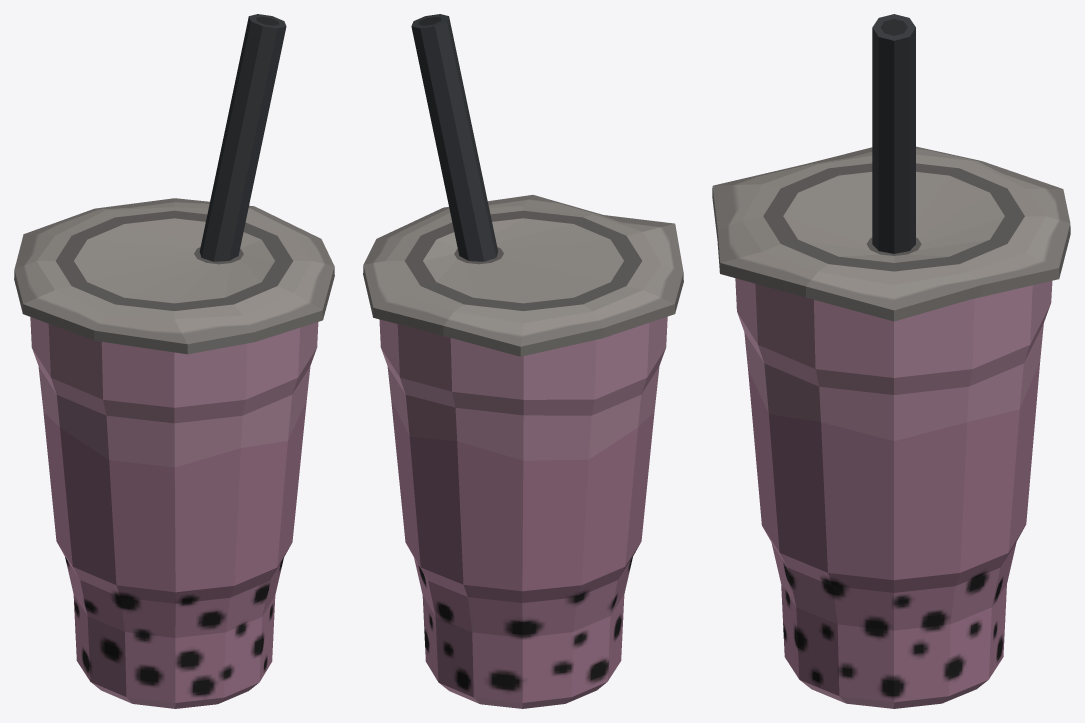
The model's file is SM_Prop_Drink_Boba_01.fbx.
The picture shows the model from 3 angles, left to right: view 1: azimuth 30°, elevation 25°; view 2: azimuth 150°, elevation 25°; view 3: azimuth 270°, elevation 25°; orthographic projection. The views are drawn at different scales.
Visible parts, largest first — view 1: SM_Prop_Drink_Boba_01; view 2: SM_Prop_Drink_Boba_01; view 3: SM_Prop_Drink_Boba_01.
Boxes of the visible parts, left/top/right/bottom form: SM_Prop_Drink_Boba_01: left=14, top=14, right=334, bottom=708; SM_Prop_Drink_Boba_01: left=363, top=14, right=683, bottom=708; SM_Prop_Drink_Boba_01: left=712, top=14, right=1070, bottom=708.
Size of the model in its own units: 21.45 by 43.37 by 20.23.
